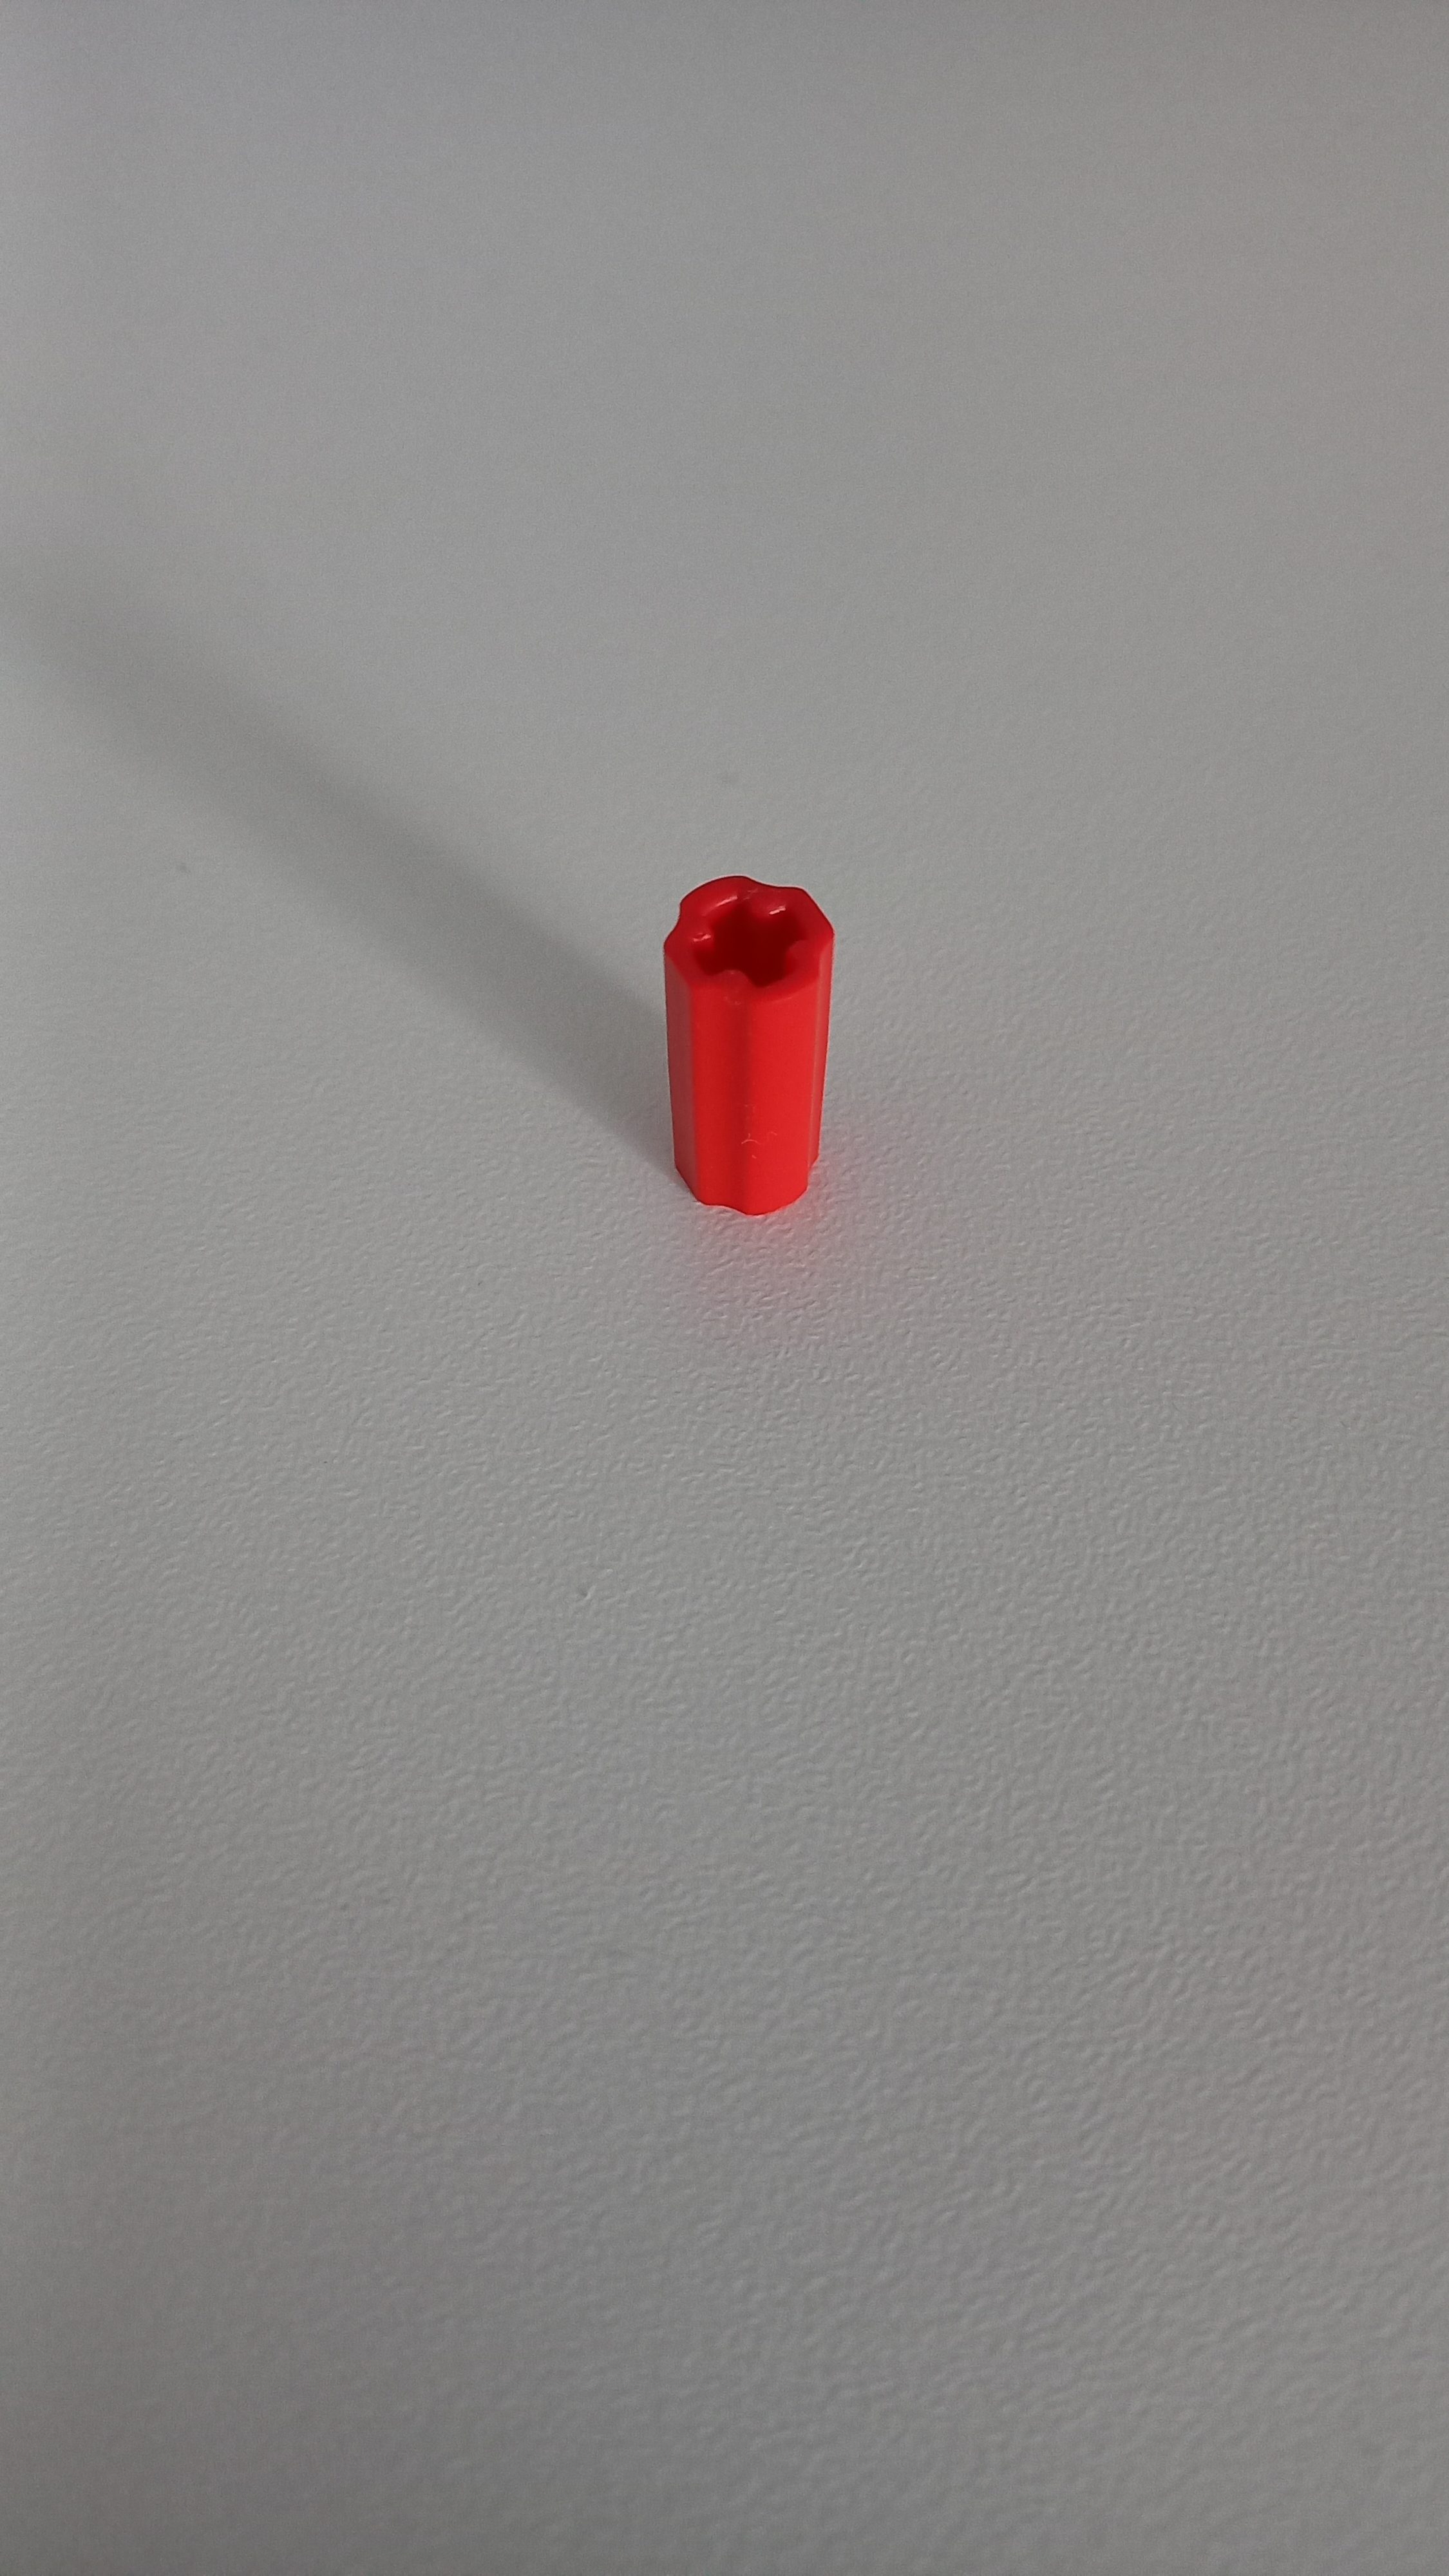Rot: (626, 840, 872, 1258)
